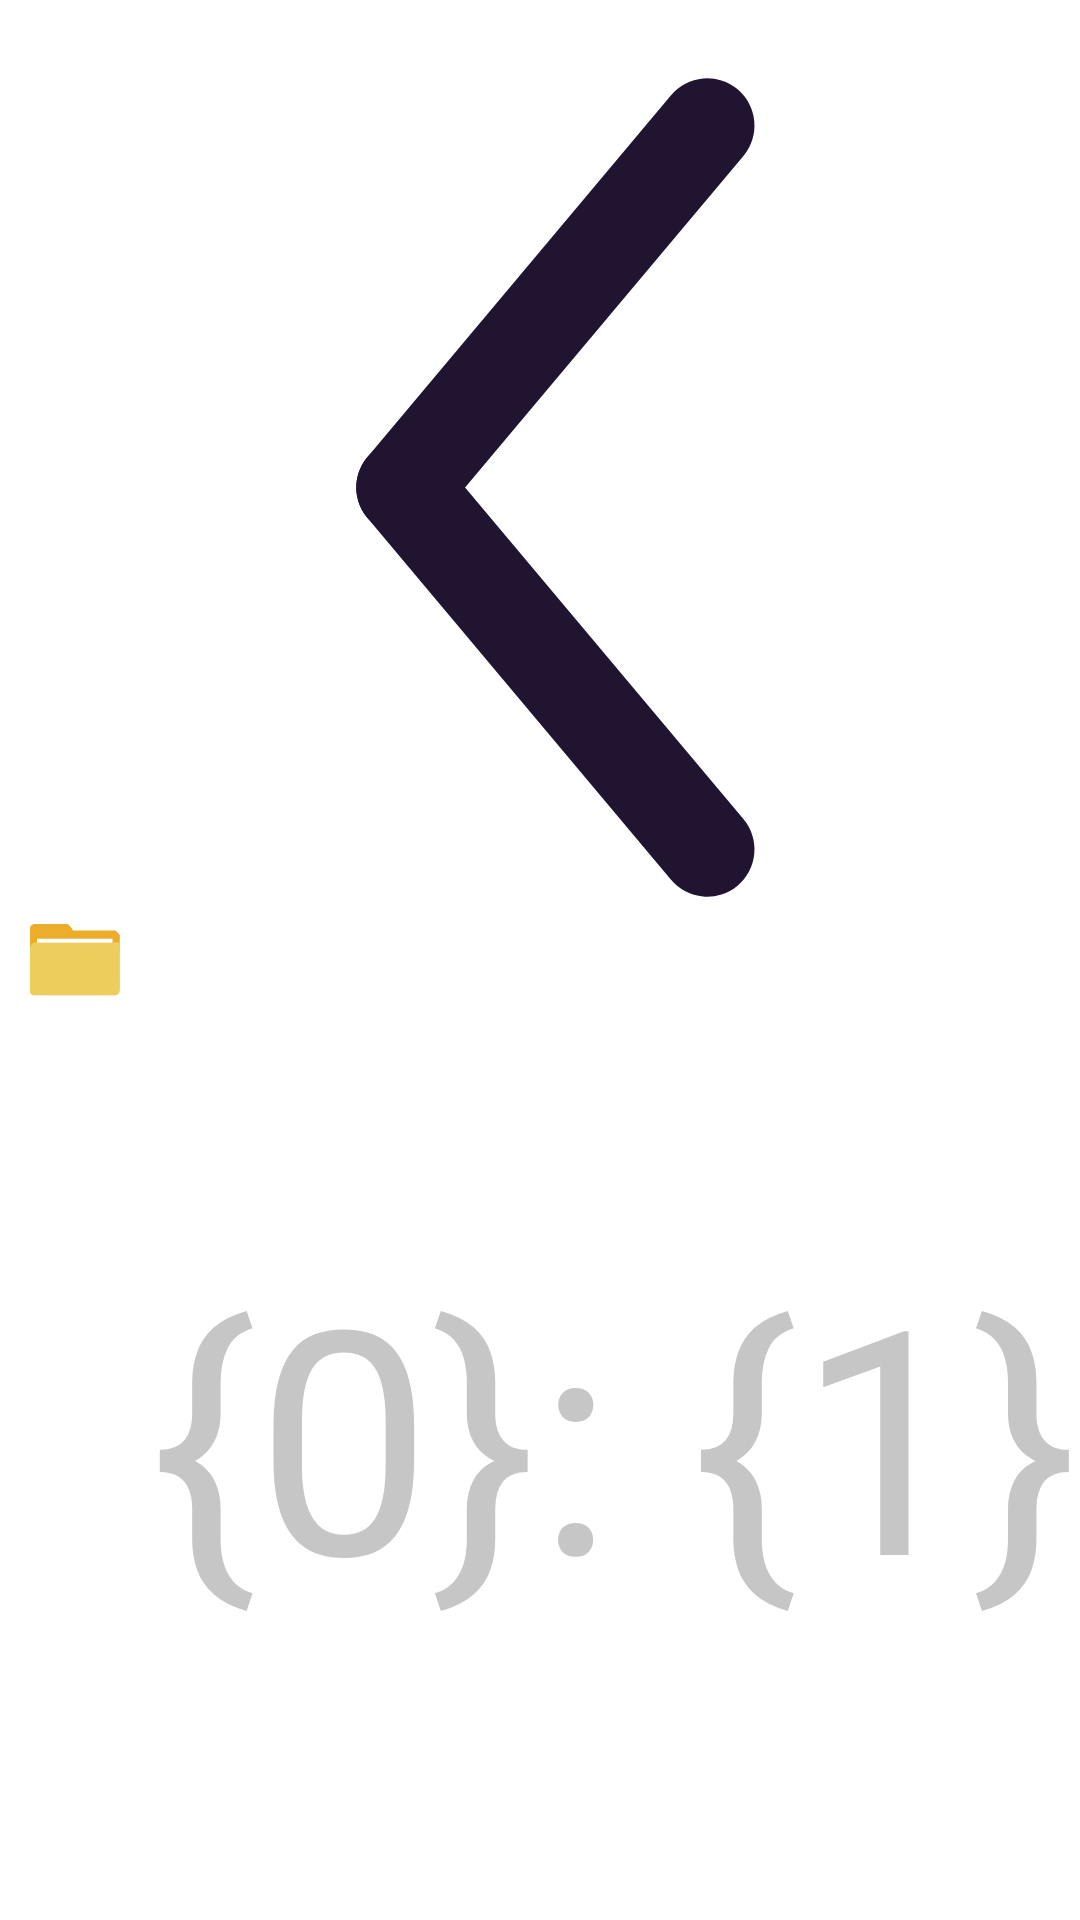

Locate icon controls on the screen. Image size 1080 × 1920, boxes as box=[x1, y1, x2, y2].
page file directory: box=[30, 924, 120, 996]
